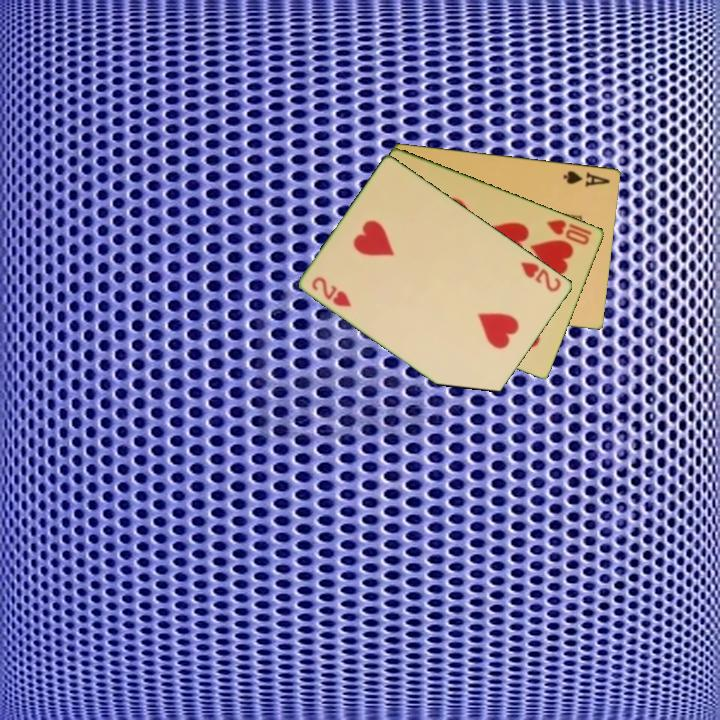10h: (543, 215, 592, 248)
2h: (517, 258, 565, 295), (308, 273, 355, 310)
As: (560, 167, 613, 189)
